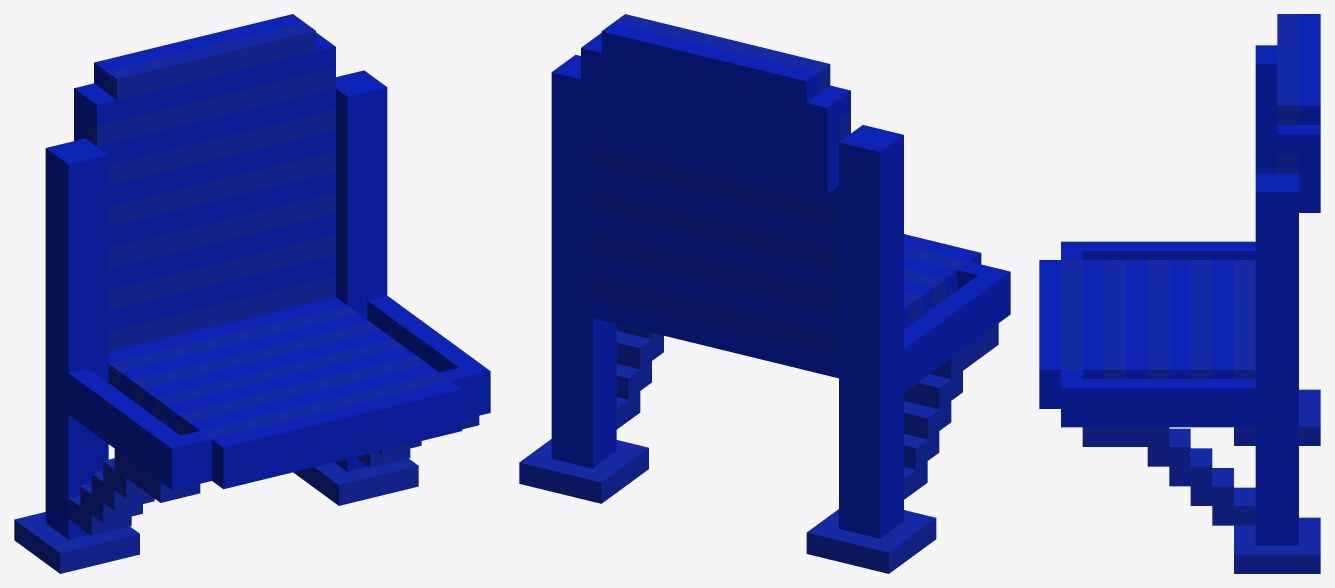
Rendered from SEAT_BLUE.obj.
The picture shows the model from 3 angles, left to right: view 1: azimuth 30°, elevation 25°; view 2: azimuth 150°, elevation 25°; view 3: azimuth 270°, elevation 25°; orthographic projection. The views are drawn at different scales.
Size of the model in its own units: 1.8 by 2.2 by 1.3.
Materials: 1 (1 with a texture image).
